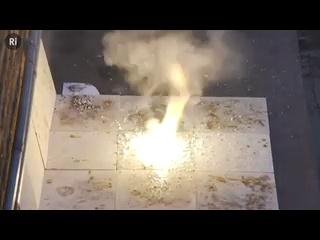Fire: (132, 97, 195, 172)
